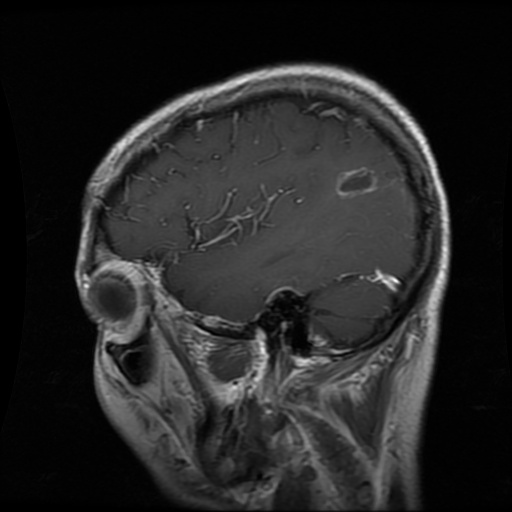glioma: (337, 168, 376, 193)
